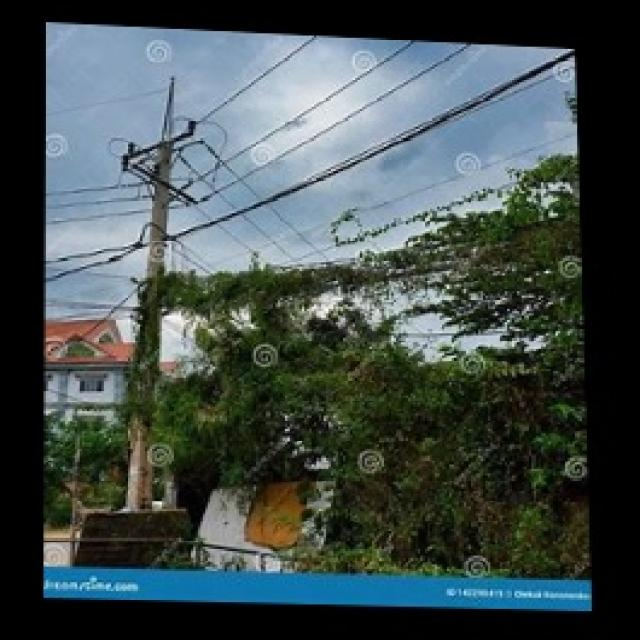critical vegetation: (142, 236, 576, 353)
